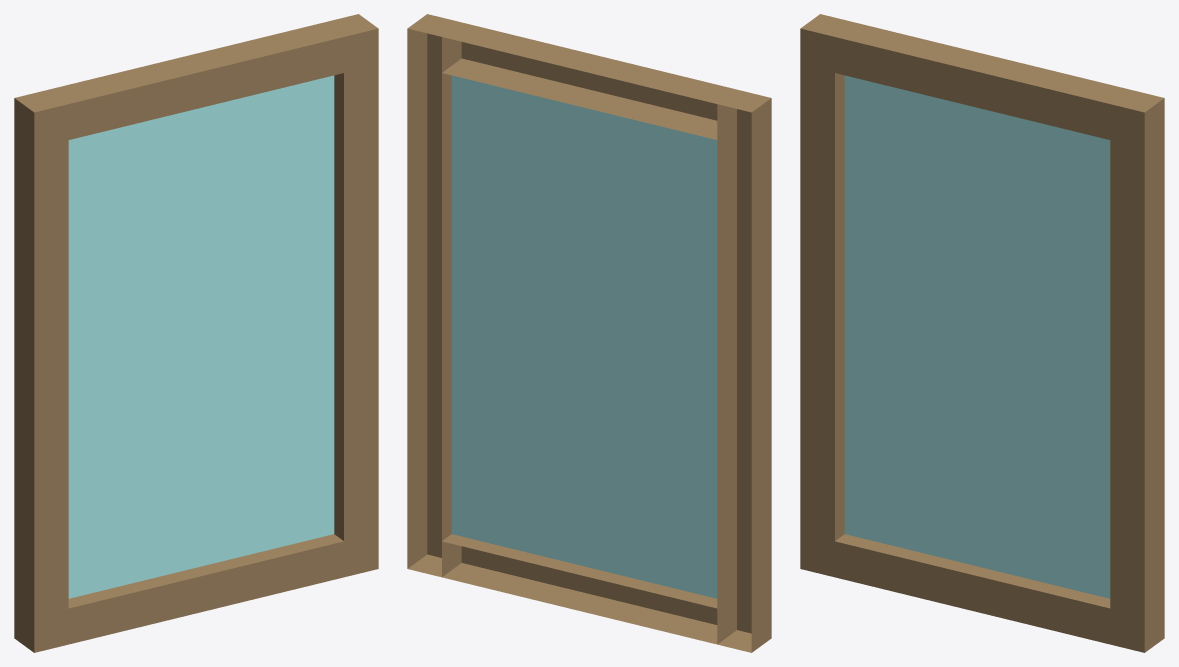
The model's file is WINDOW_BASIC_100x150.fbx.
3 renders of one model, left to right at view 1: azimuth 30°, elevation 25°; view 2: azimuth 150°, elevation 25°; view 3: azimuth 330°, elevation 25°, orthographic.
Visible parts, largest first — view 1: WINDOW_BASIC_100x150; view 2: WINDOW_BASIC_100x150; view 3: WINDOW_BASIC_100x150.
Boxes of the visible parts, bbox=[...] form: WINDOW_BASIC_100x150: bbox=[14, 14, 378, 652]; WINDOW_BASIC_100x150: bbox=[407, 14, 771, 652]; WINDOW_BASIC_100x150: bbox=[800, 14, 1164, 652].
Size of the model in its own units: 100 by 150 by 10.
